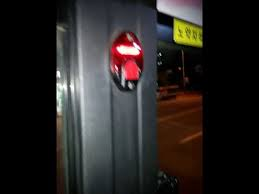bell: (107, 28, 147, 99)
